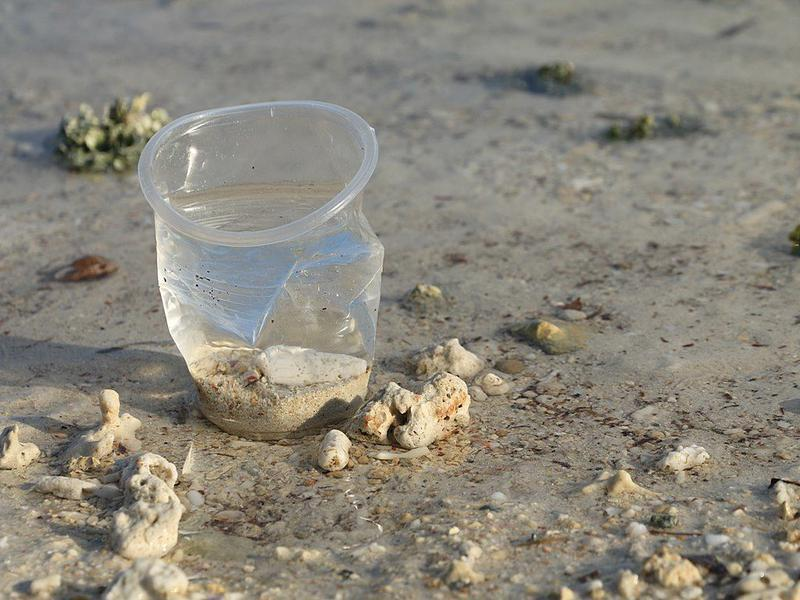cup: (132, 89, 396, 438)
